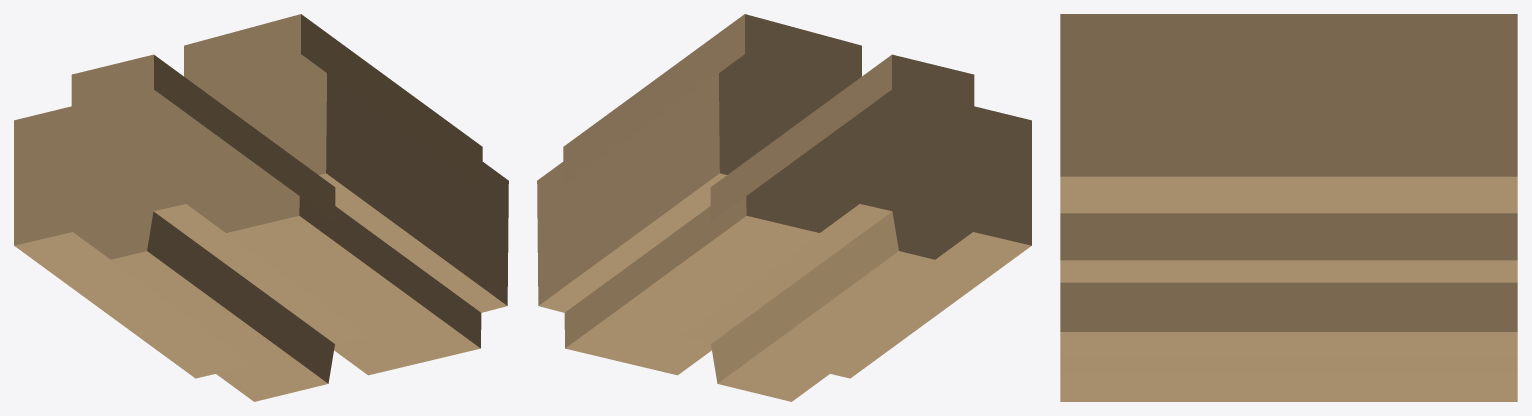
The picture shows the model from 3 angles, left to right: view 1: azimuth 30°, elevation 25°; view 2: azimuth 150°, elevation 25°; view 3: azimuth 270°, elevation 25°; orthographic projection. The views are drawn at different scales.
Visible parts, largest first — view 1: 0_0_1_1_3_3_2_0_1; view 2: 0_0_1_1_3_3_2_0_1; view 3: 0_0_1_1_3_3_2_0_1.
Part boxes in pixels (x1,y1,x2,y2): 0_0_1_1_3_3_2_0_1: (14, 14, 508, 401); 0_0_1_1_3_3_2_0_1: (537, 14, 1031, 401); 0_0_1_1_3_3_2_0_1: (1060, 14, 1517, 401).
Size of the model in its own units: 26.9 by 16.52 by 27.
